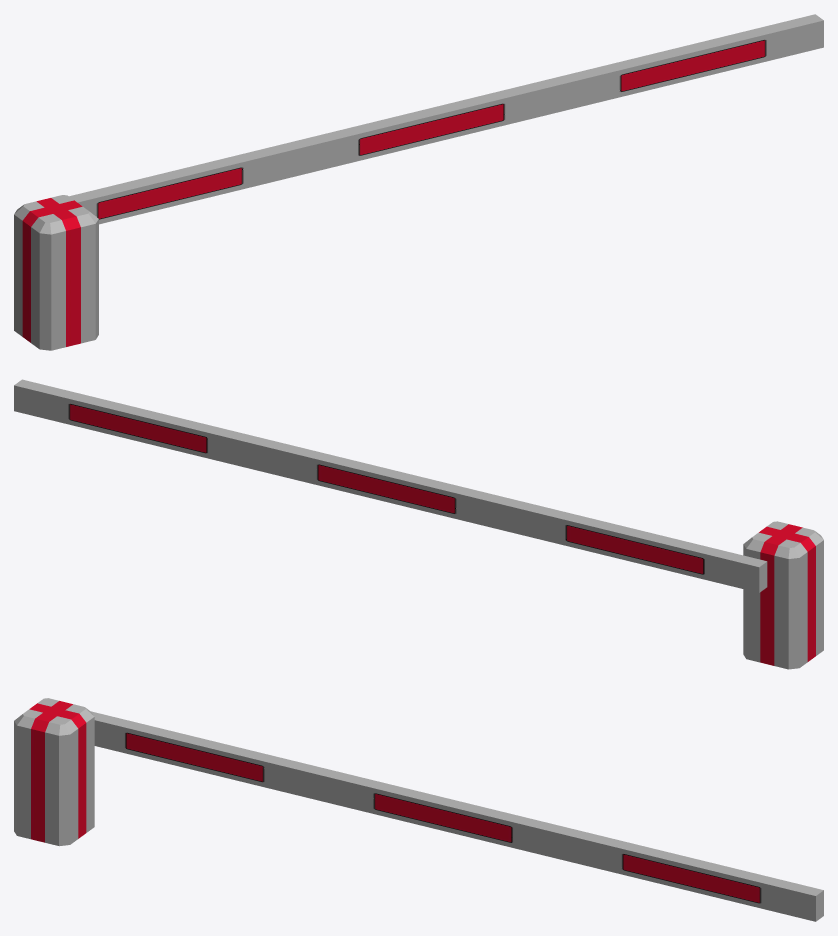
The model's file is Shlagbaum.fbx.
The picture shows the model from 3 angles, top to bottom: view 1: azimuth 30°, elevation 25°; view 2: azimuth 150°, elevation 25°; view 3: azimuth 330°, elevation 25°; orthographic projection. The views are drawn at different scales.
Visible parts, largest first — view 1: Shlagbaum; view 2: Shlagbaum; view 3: Shlagbaum.
Part boxes in pixels (<box>): Shlagbaum: <box>14,14,823,350</box>; Shlagbaum: <box>14,379,823,669</box>; Shlagbaum: <box>14,698,823,921</box>.
Bounding box in the file's own units: 1100 × 160 × 100.
